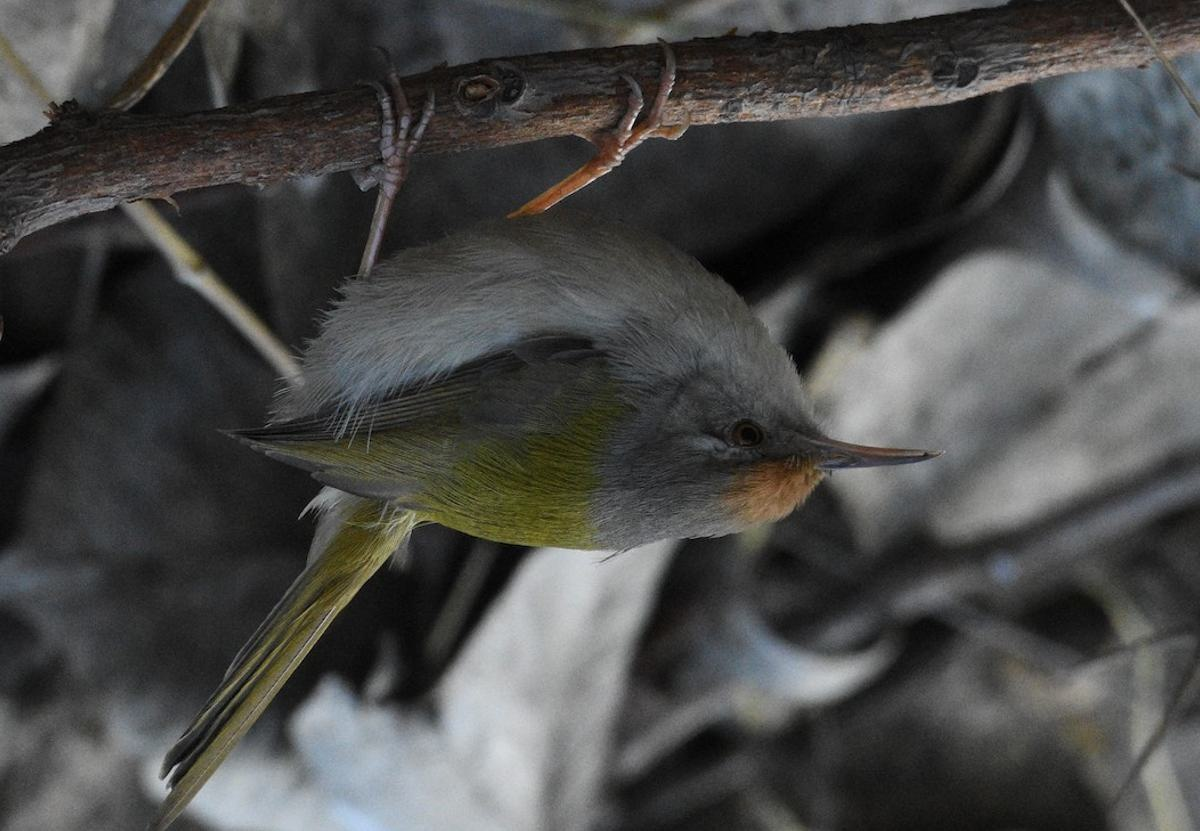tailorbird: (233, 80, 937, 572)
